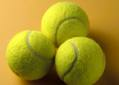tennis ball: (48, 34, 110, 85), (4, 28, 60, 82), (36, 1, 95, 48)
